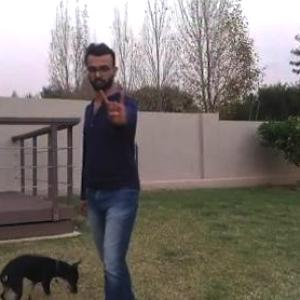takeoff-hand: (94, 83, 130, 131)
